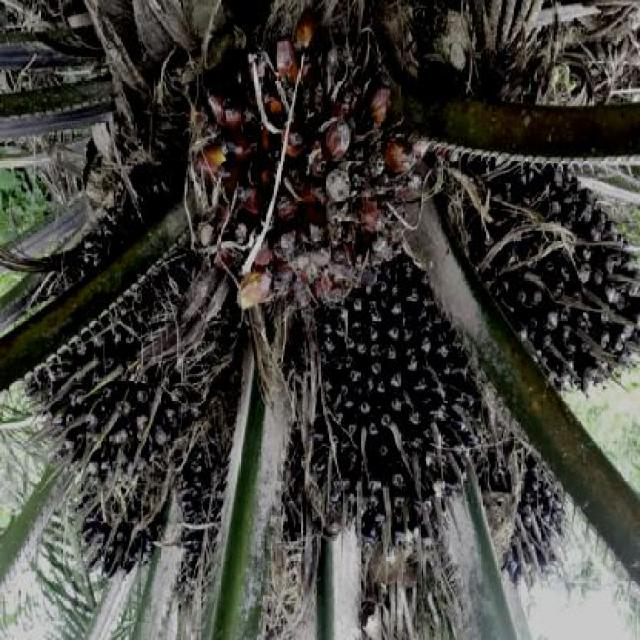palm-oil: (42, 216, 225, 550), (190, 32, 420, 271), (438, 141, 640, 389), (313, 274, 496, 540)
